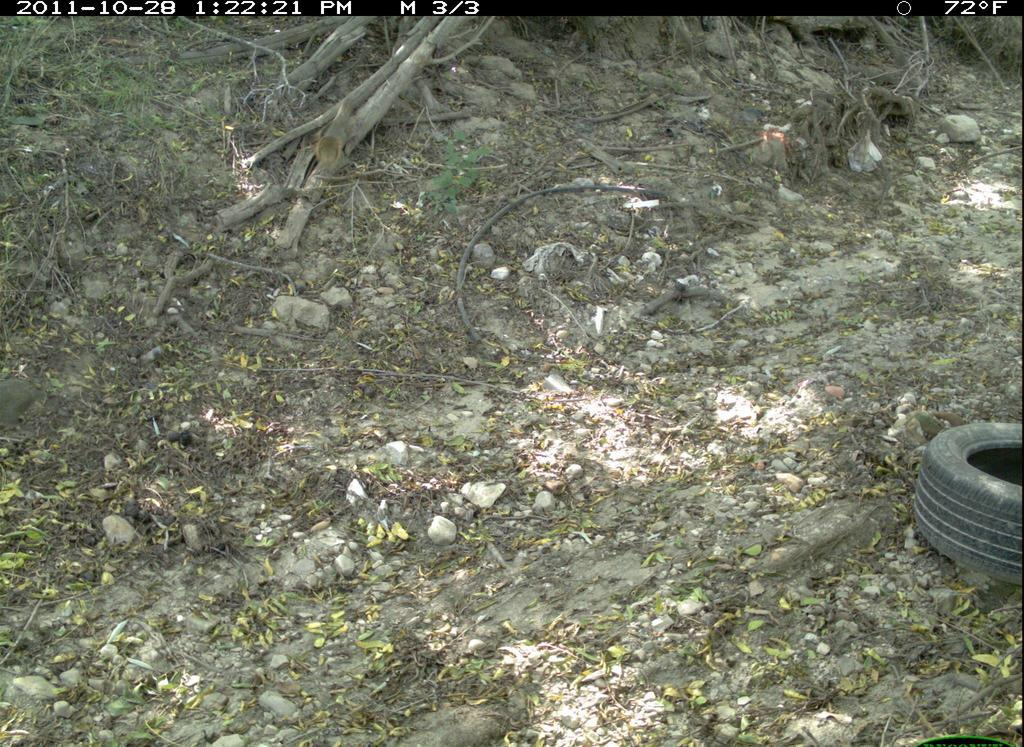squirrel: (308, 91, 367, 176)
